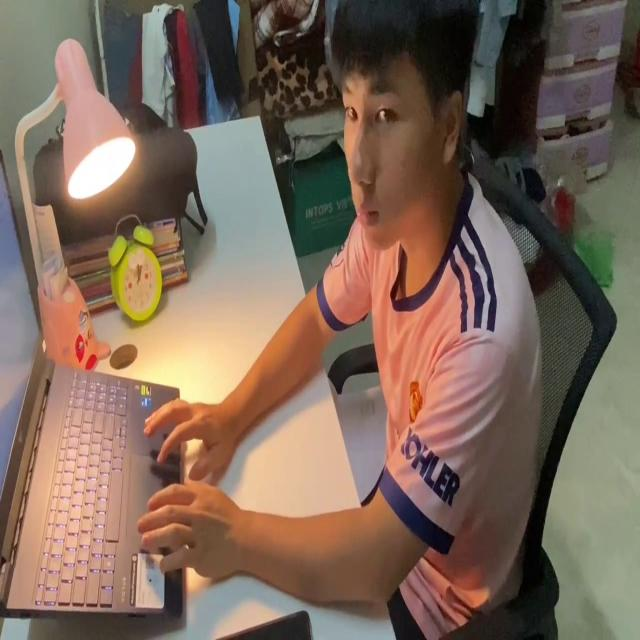laptop: (0, 138, 186, 626)
phone: (216, 601, 315, 640)
student: (137, 0, 546, 640)
